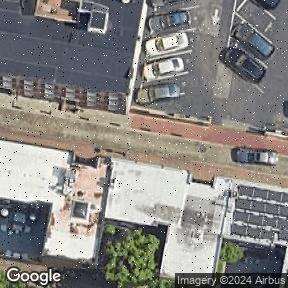vegetation: (106, 230, 174, 288), (217, 243, 243, 273), (0, 270, 10, 288)
